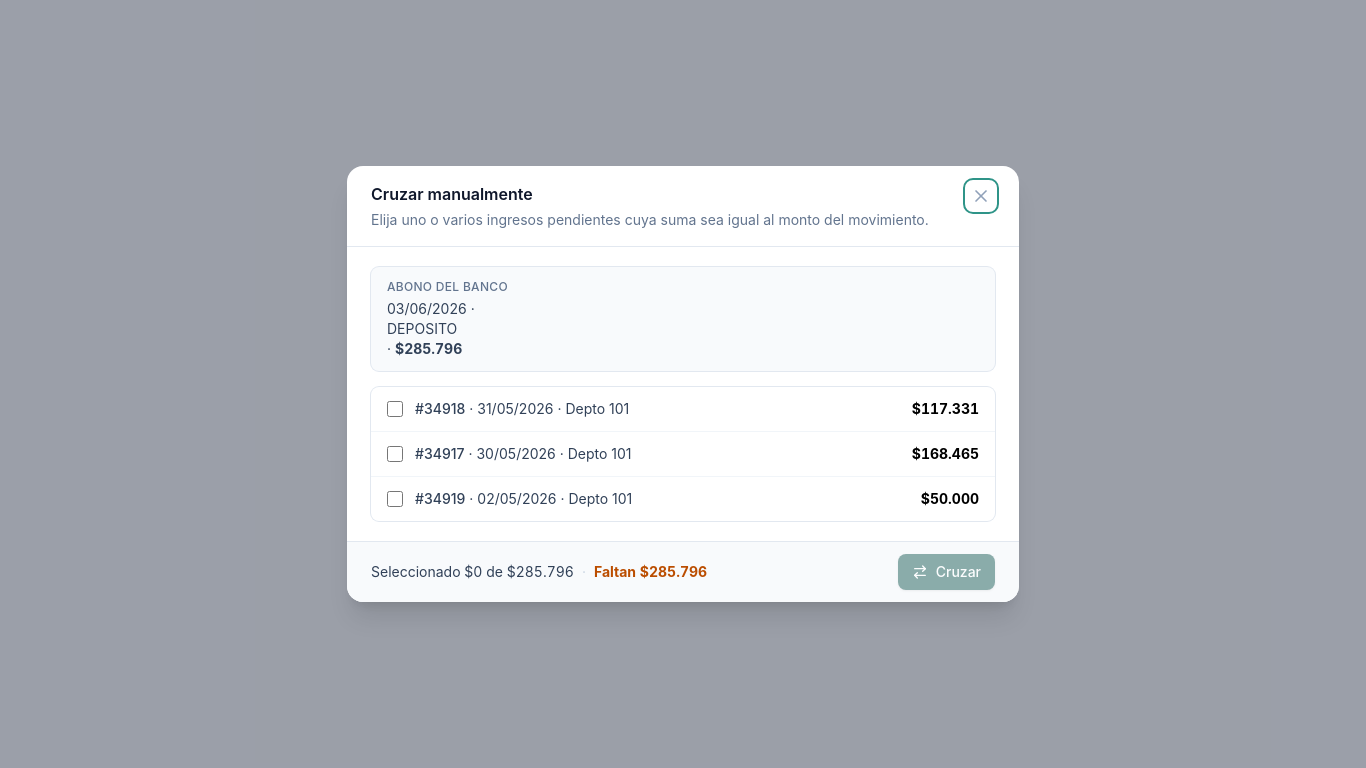
Cruce manual agrupado desde un movimiento › habilita "Cruzar" solo cuando la suma seleccionada es igual al monto
The image size is (1366, 768).
Expected: the button with aria-label "Cruzar seleccionadas" is disabled, [898,554,995,590]
Click the checkbox labelled "#34917 · 30/05/2026 · Depto 101": (395, 454) [387,446,403,462]
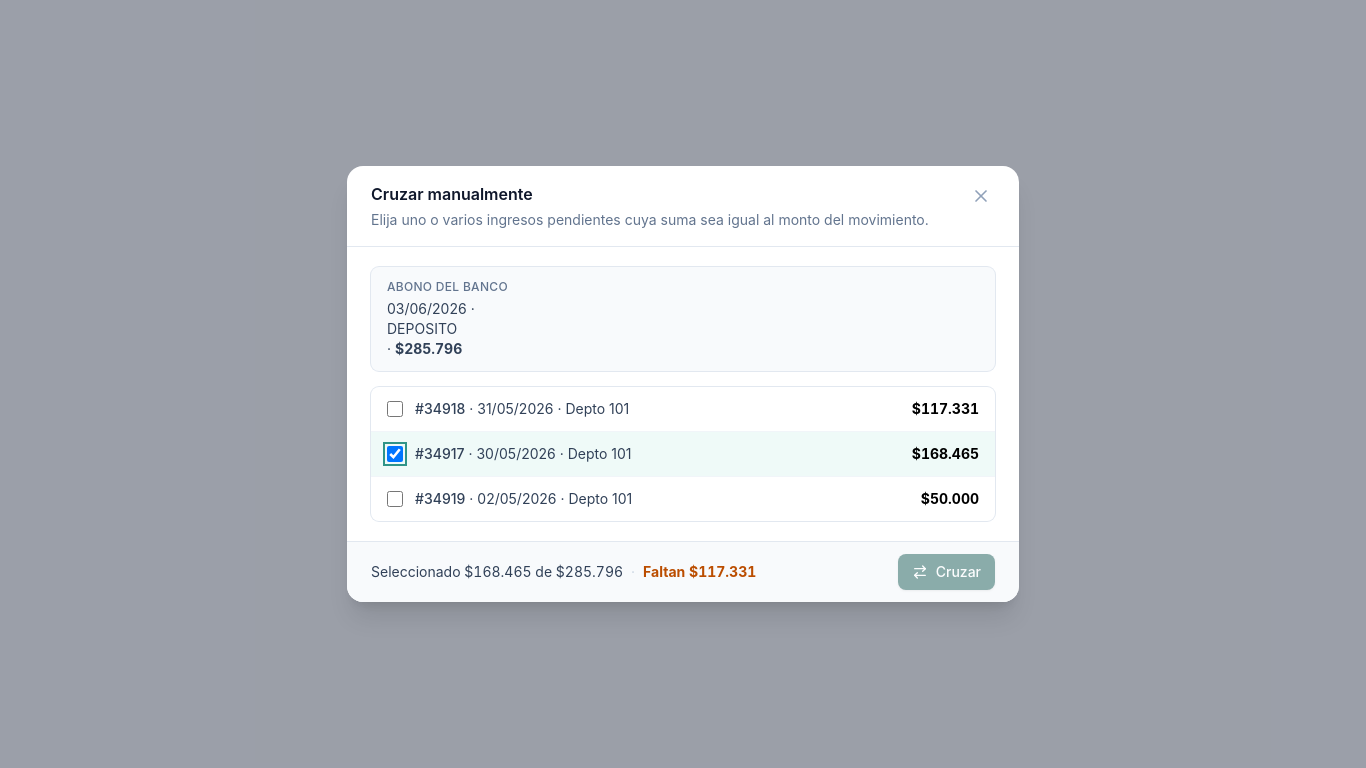
Click the checkbox labelled "#34919 · 02/05/2026 · Depto 101": (395, 499) [387,491,403,507]
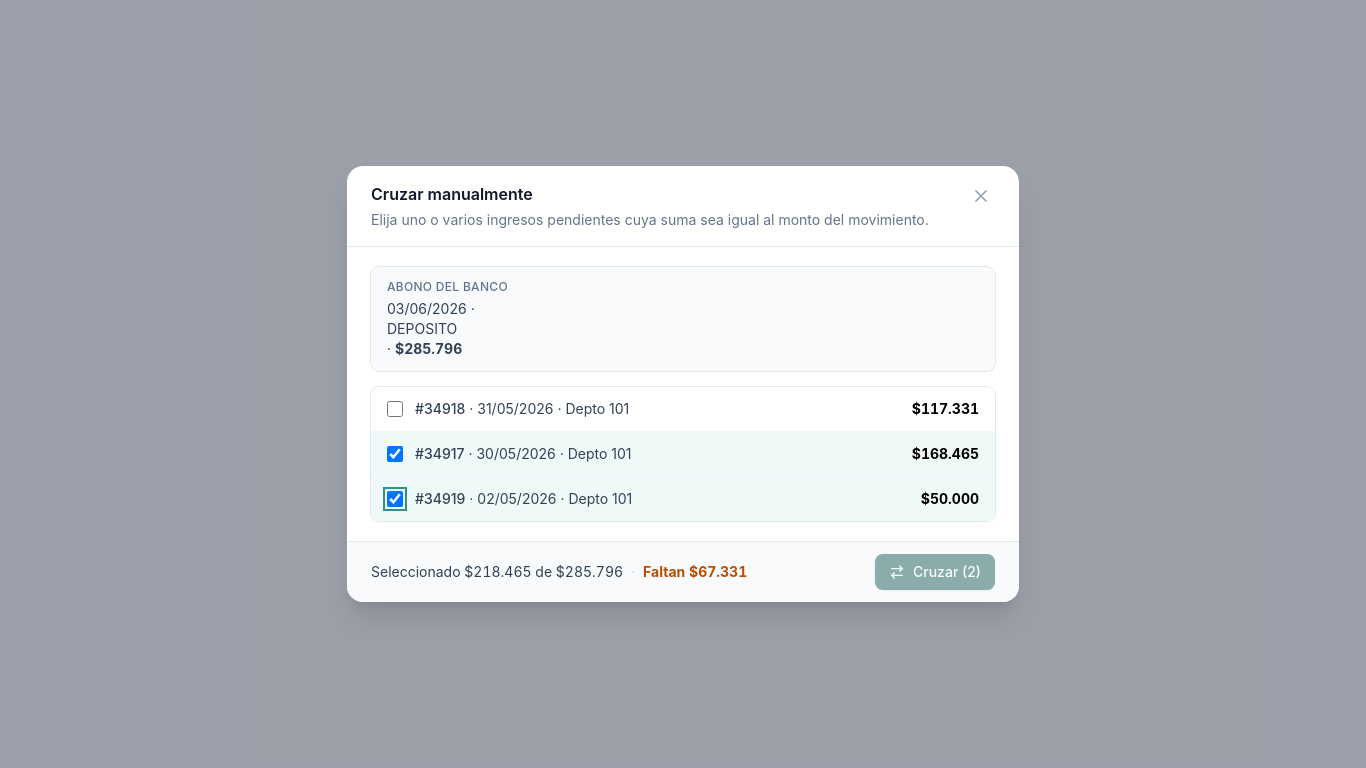
Expected: the button with aria-label "Cruzar seleccionadas" is disabled, [875,554,995,590]
Now the text "Seleccionado $218.465 de $285.796" is shown, box [371,563,623,580]
Now the text "Faltan $67.331" is shown, box [643,563,747,580]
Click the checkbox labelled "#34919 · 02/05/2026 · Depto 101": (395, 499) [387,491,403,507]
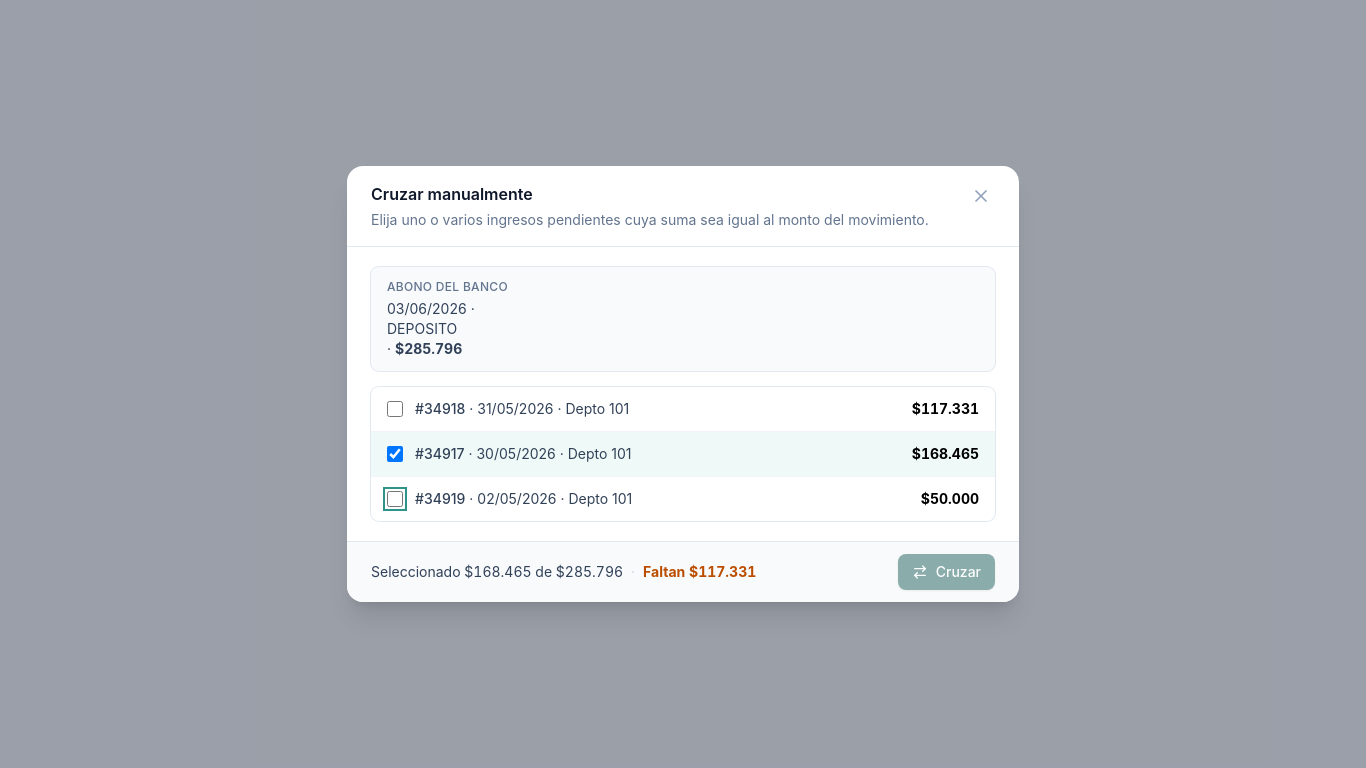
Click the checkbox labelled "#34918 · 31/05/2026 · Depto 101": (395, 409) [387,401,403,417]
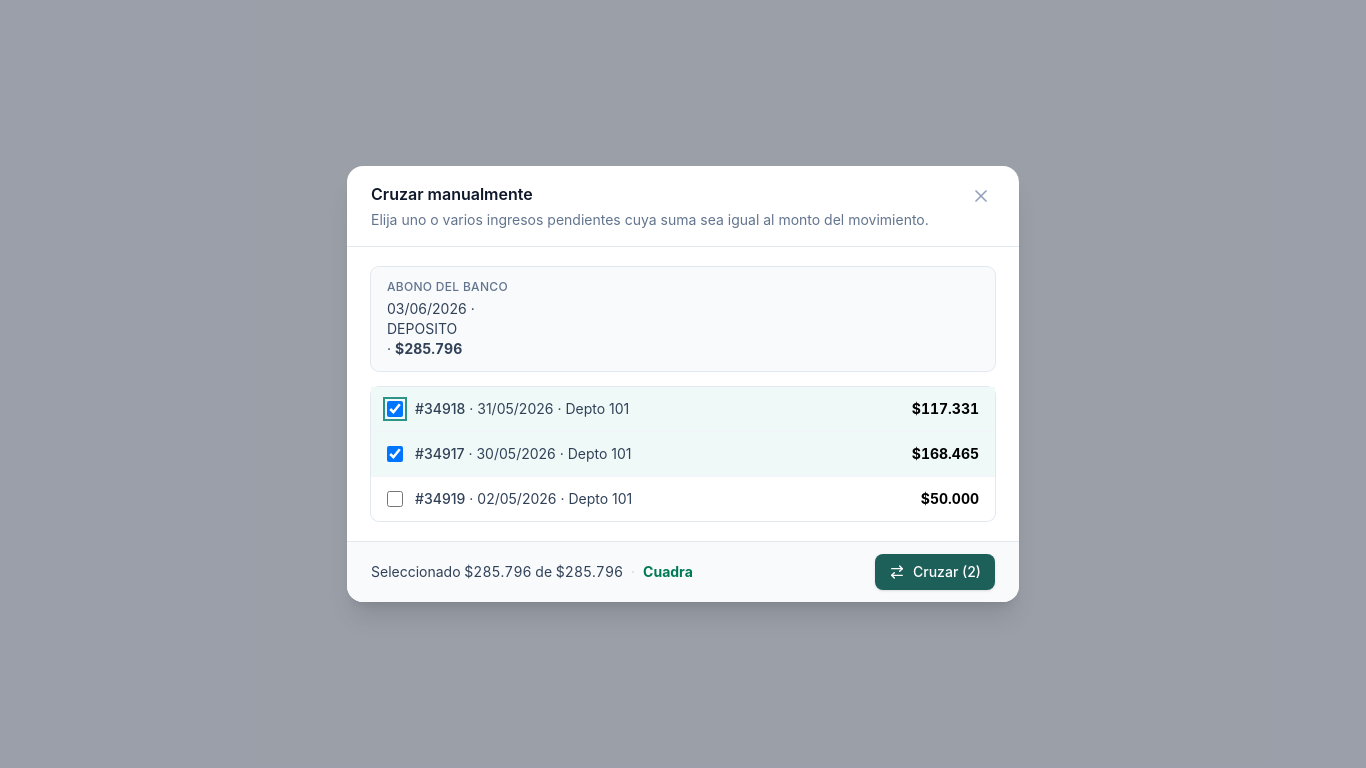
Now the text "Cuadra" is shown, box [643,563,693,580]
Now the button with aria-label "Cruzar seleccionadas" is enabled, box [875,554,995,590]
